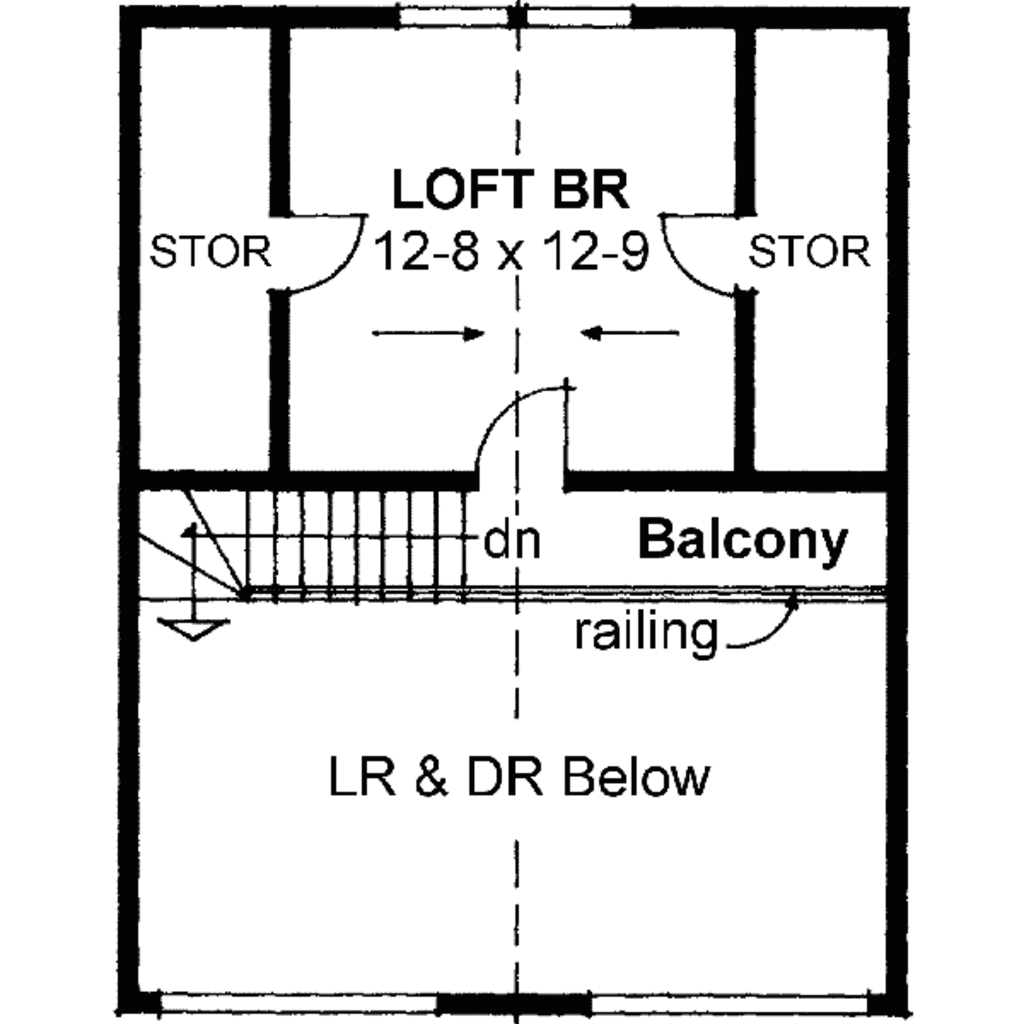door: (450, 370, 583, 498), (272, 198, 391, 300), (650, 201, 763, 308)
stairs: (128, 478, 507, 647)
window: (394, 1, 520, 30), (526, 6, 637, 30)
